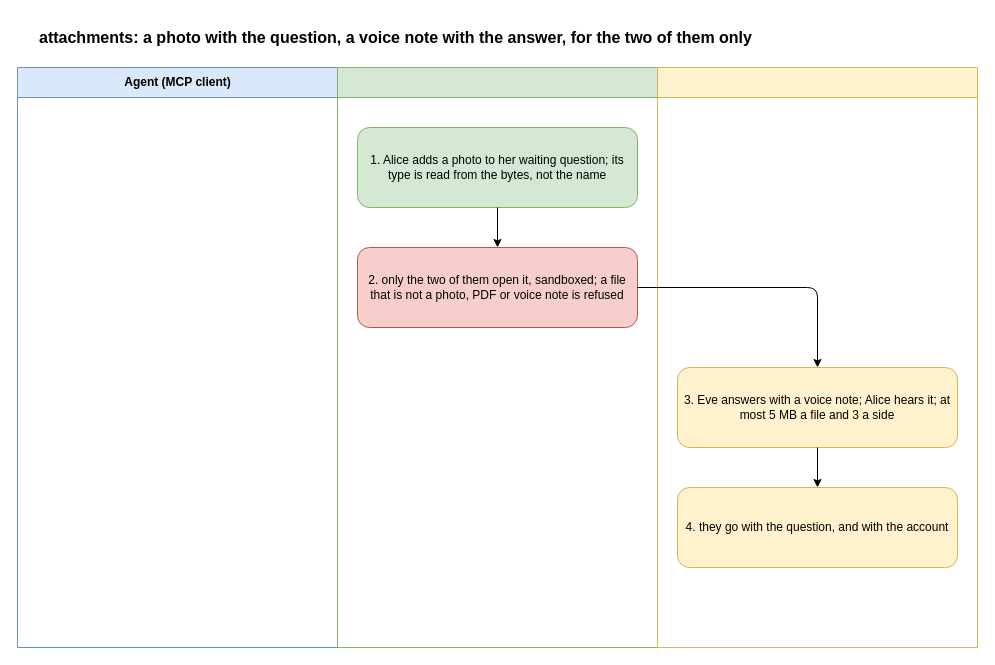
This 995x665 diagram has some shape labels left out. The box of each missing label's shape, as (x1, y1, x2, y2) in pixels:
Person (browser): (336, 66, 658, 648)
Relay: (656, 66, 978, 648)
